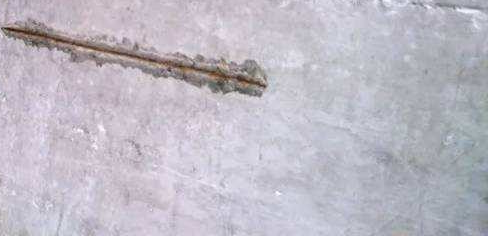Exposed reinforcement: (1, 26, 266, 89)
Spalling: (1, 18, 269, 97)
